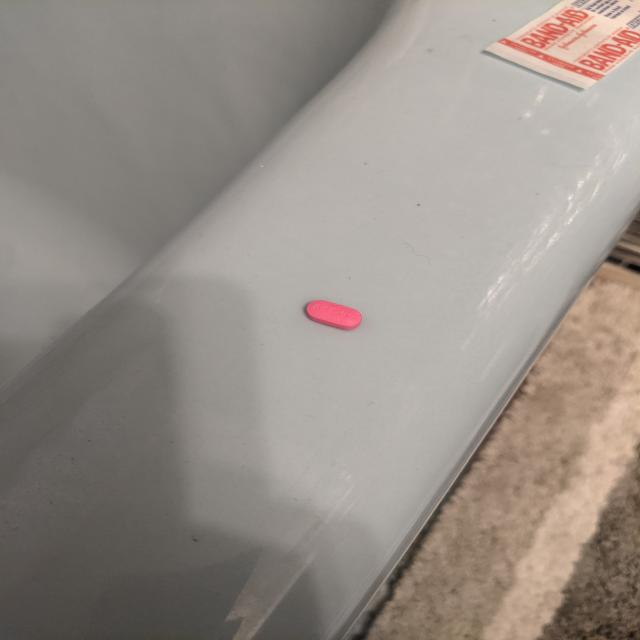non-organic waste: (306, 300, 362, 330)
